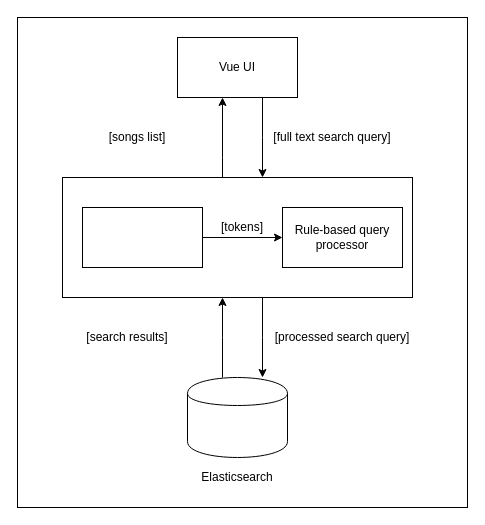
Some shapes in this 485 by 525 pixel diagram are drawn without their labels. The centre of each missing label's shape, as x and y in pixels:
"Sinhala Tokenizer" goes at (x=142, y=237).
"songs index" goes at (x=237, y=417).
